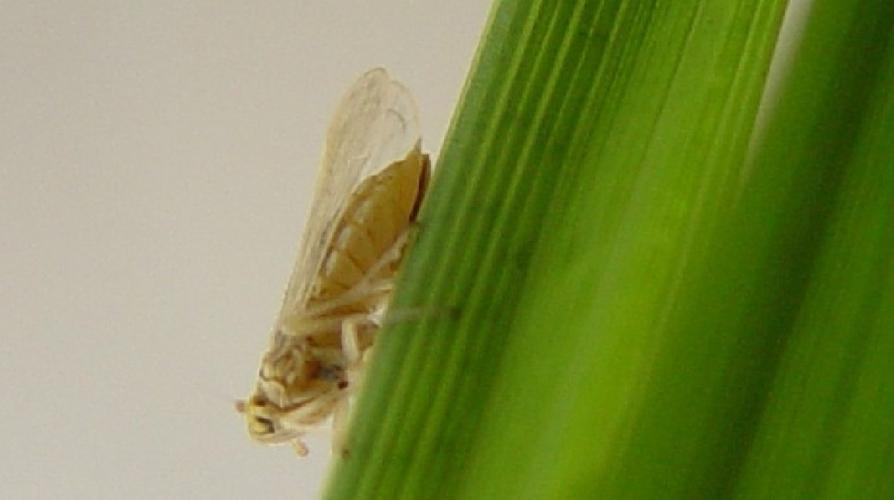Delphacidae: (233, 67, 460, 464)
